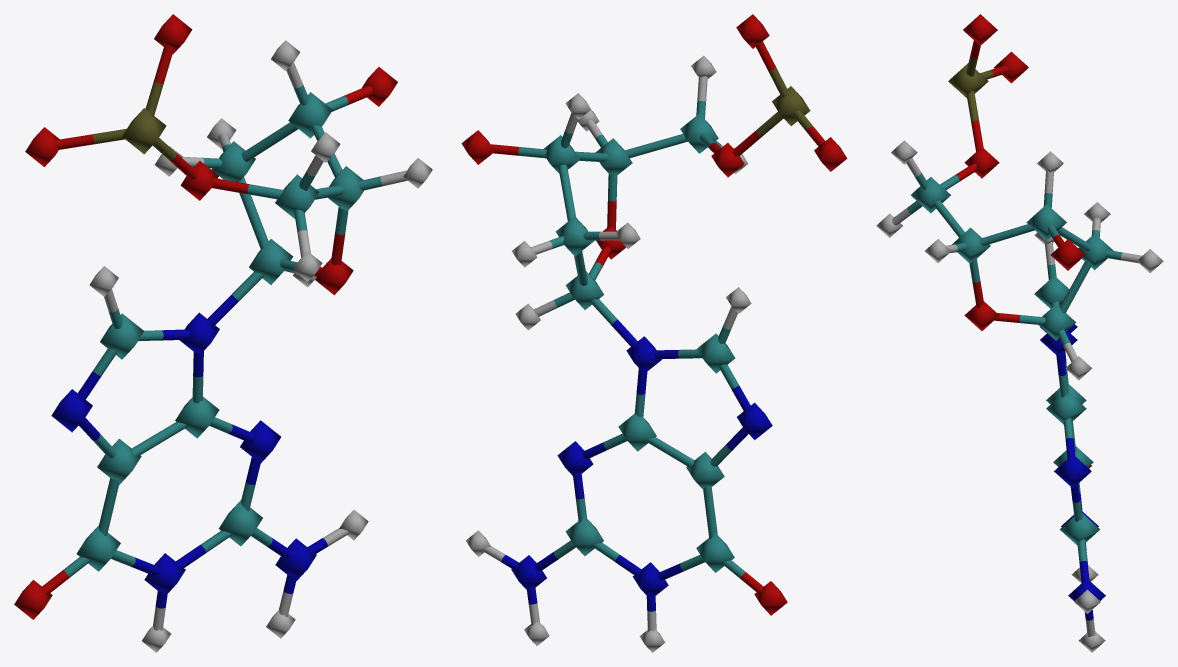
The model's file is guanine.obj.
3 views of the same model, side by side, from view 1: azimuth 30°, elevation 25°; view 2: azimuth 150°, elevation 25°; view 3: azimuth 270°, elevation 25° (orthographic). The views are drawn at different scales.
Visible parts, largest first — view 1: vmd_mol0_rep0; view 2: vmd_mol0_rep0; view 3: vmd_mol0_rep0.
Boxes of the visible parts, x1,y1,x2,y2 form: vmd_mol0_rep0: (14, 14, 432, 652); vmd_mol0_rep0: (461, 14, 847, 652); vmd_mol0_rep0: (876, 14, 1163, 652).
Size of the model in its own units: 0.9379 by 1.58 by 0.7217.
